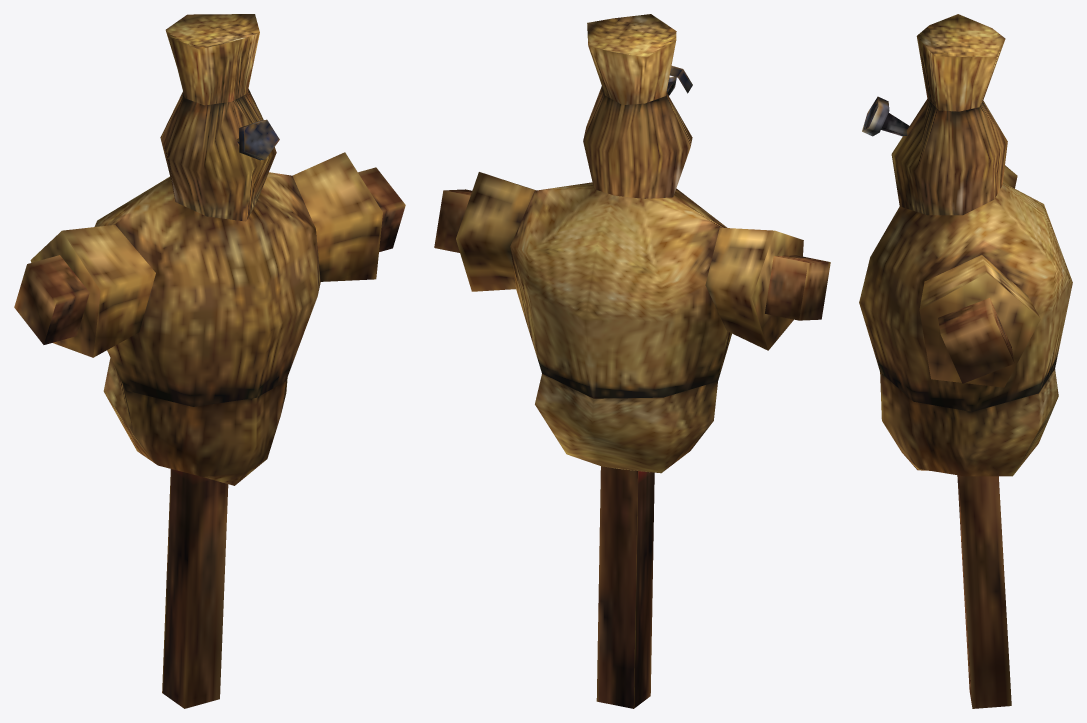
File: cj_mili_mang_1.glb
The picture shows the model from 3 angles, left to right: view 1: azimuth 30°, elevation 25°; view 2: azimuth 150°, elevation 25°; view 3: azimuth 270°, elevation 25°; orthographic projection. The views are drawn at different scales.
Parts seen in each view (by area): view 1: CJ_mili_Mang_1; view 2: CJ_mili_Mang_1; view 3: CJ_mili_Mang_1.
Part boxes in pixels (<box>): CJ_mili_Mang_1: <box>14,14,405,708</box>; CJ_mili_Mang_1: <box>434,14,830,708</box>; CJ_mili_Mang_1: <box>859,14,1072,708</box>.
Size of the model in its own units: 1.31 by 2.32 by 0.6727.
1 material, 1 textured.
